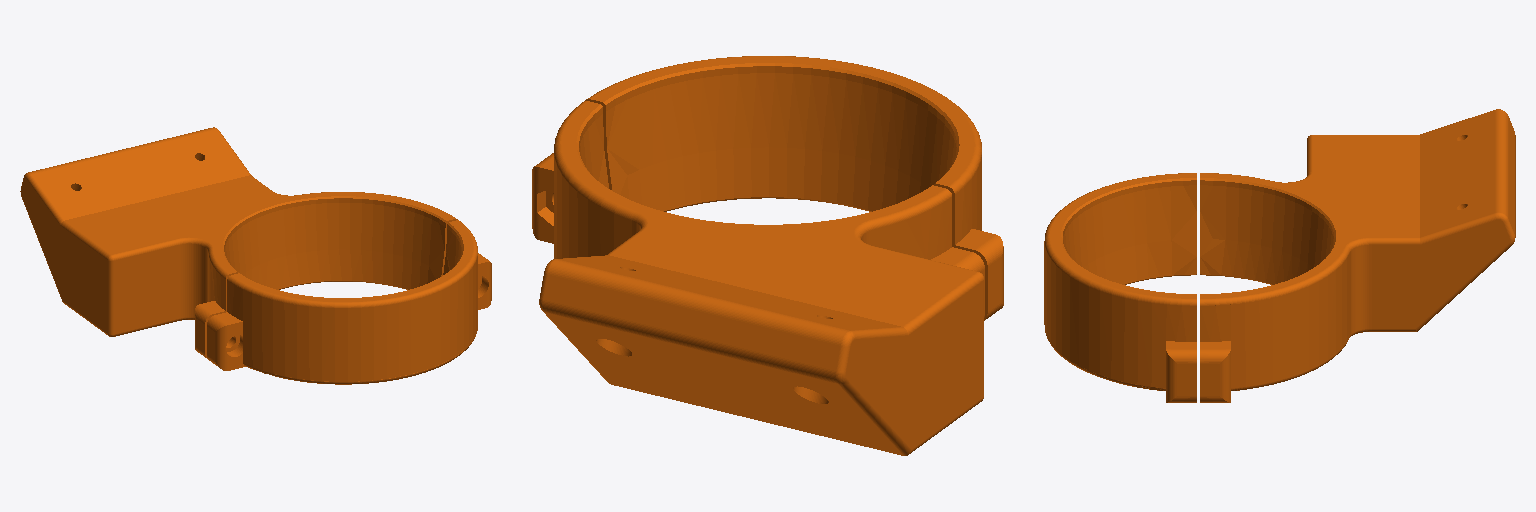
The robot description file, URDF, robot "kinova_cam_ring_rgb":
<?xml version="1.0"?>
<!-- Gerado por scripts/ros_export.py (kinova-cam): ring_rgb — D435i com a lente RGB no eixo da garra, 20°.
     URDF isolado (raiz end_effector_link), para conferir com check_urdf / RViz. -->
<robot name="kinova_cam_ring_rgb">
  <link name="end_effector_link"/>
  <joint name="camera_mount_joint" type="fixed">
    <parent link="end_effector_link"/>
    <child link="camera_mount_link"/>
    <origin xyz="0 0 0.00287" rpy="0 0 0"/>
  </joint>
  <link name="camera_mount_link">
    <visual>
      <geometry><mesh filename="package://kinova_cam_description/meshes/ring_rgb_camera_half.stl" scale="0.001 0.001 0.001"/></geometry>
      <material name="ring_rgb_camera_half"><color rgba="0.85 0.45 0.1 1"/></material>
    </visual>
    <collision>
      <geometry><mesh filename="package://kinova_cam_description/meshes/ring_rgb_camera_half.stl" scale="0.001 0.001 0.001"/></geometry>
    </collision>
    <visual>
      <geometry><mesh filename="package://kinova_cam_description/meshes/ring_lower_half.stl" scale="0.001 0.001 0.001"/></geometry>
      <material name="ring_lower_half"><color rgba="0.85 0.45 0.1 1"/></material>
    </visual>
    <collision>
      <geometry><mesh filename="package://kinova_cam_description/meshes/ring_lower_half.stl" scale="0.001 0.001 0.001"/></geometry>
    </collision>
  </link>
  <joint name="camera_joint" type="fixed">
    <parent link="camera_mount_link"/>
    <child link="camera_link"/>
    <origin xyz="-0.015 0.065683 0.002821" rpy="0 -1.22173 -1.5708"/>
  </joint>
  <link name="camera_link"/>
</robot>

--- What the picture shows (computed from the rendered views, not written in the file) ---
Views: 3 orthographic renders of the robot side by side, from view 1: azimuth 30°, elevation 25°; view 2: azimuth 150°, elevation 25°; view 3: azimuth 270°, elevation 25°.
Robot: kinova_cam_ring_rgb — 3 links, 2 joints (2 fixed); root link end_effector_link; default pose: every joint at zero.
Visible links, largest first — view 1: camera_mount_link; view 2: camera_mount_link; view 3: camera_mount_link.
Boxes of the visible links, x1=… form: camera_mount_link: x1=20, y1=127, x2=491, y2=384; camera_mount_link: x1=532, y1=56, x2=1003, y2=455; camera_mount_link: x1=1044, y1=109, x2=1515, y2=402.
Bounding box of the posed robot: 0.1175 × 0.13 × 0.0362 m (x, y, z).
2 mesh visuals loaded from 2 distinct referenced files (2 binary STL).
